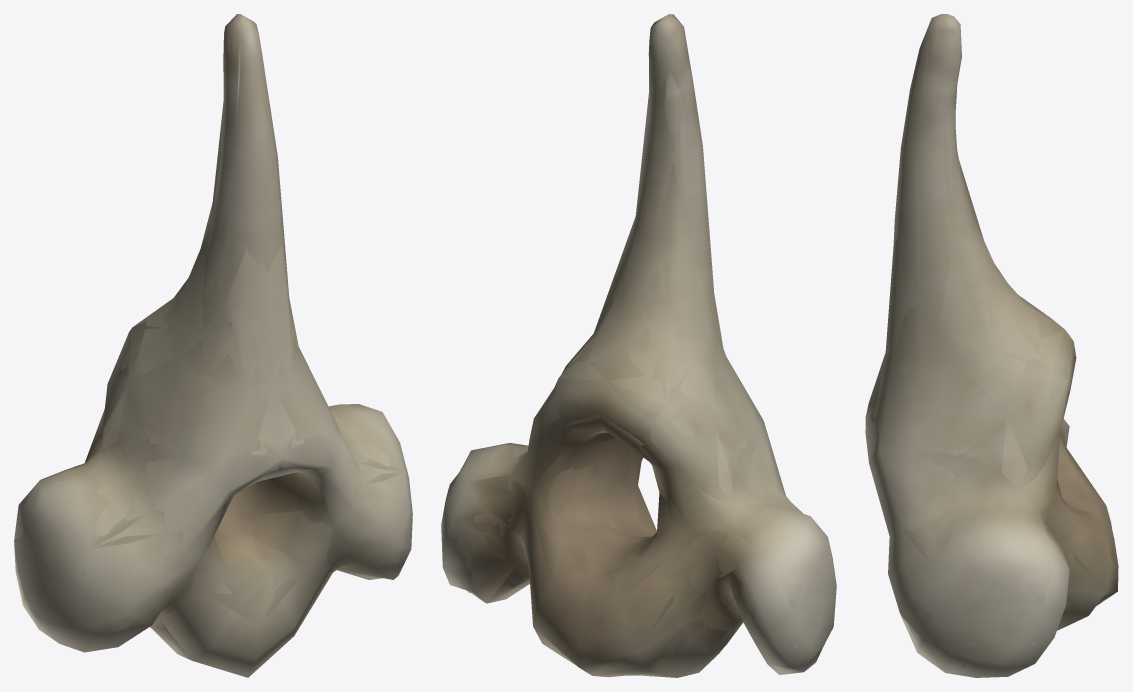
Rendered from vertebrae thoracicae 05.fbx.
3 renders of one model, left to right at view 1: azimuth 30°, elevation 25°; view 2: azimuth 150°, elevation 25°; view 3: azimuth 270°, elevation 25°, orthographic. The views are drawn at different scales.
Visible parts, largest first — view 1: vertebrae thoracicae 05, vertebrae thoracicae 05 low, vertebrae thoracicae 05 high; view 2: vertebrae thoracicae 05, vertebrae thoracicae 05 low, vertebrae thoracicae 05 high; view 3: vertebrae thoracicae 05, vertebrae thoracicae 05 low, vertebrae thoracicae 05 high.
Boxes of the visible parts, x1=… form: vertebrae thoracicae 05: x1=14, y1=14, x2=412, y2=677; vertebrae thoracicae 05 low: x1=14, y1=18, x2=411, y2=675; vertebrae thoracicae 05 high: x1=19, y1=20, x2=409, y2=661; vertebrae thoracicae 05: x1=441, y1=14, x2=836, y2=677; vertebrae thoracicae 05 low: x1=445, y1=16, x2=802, y2=677; vertebrae thoracicae 05 high: x1=458, y1=19, x2=832, y2=675; vertebrae thoracicae 05: x1=865, y1=14, x2=1118, y2=677; vertebrae thoracicae 05 low: x1=866, y1=15, x2=1105, y2=650; vertebrae thoracicae 05 high: x1=870, y1=21, x2=1113, y2=666.
Bounding box in the file's own units: 1.23 × 2.14 × 0.765.
Materials: 1 (1 with a texture image).
